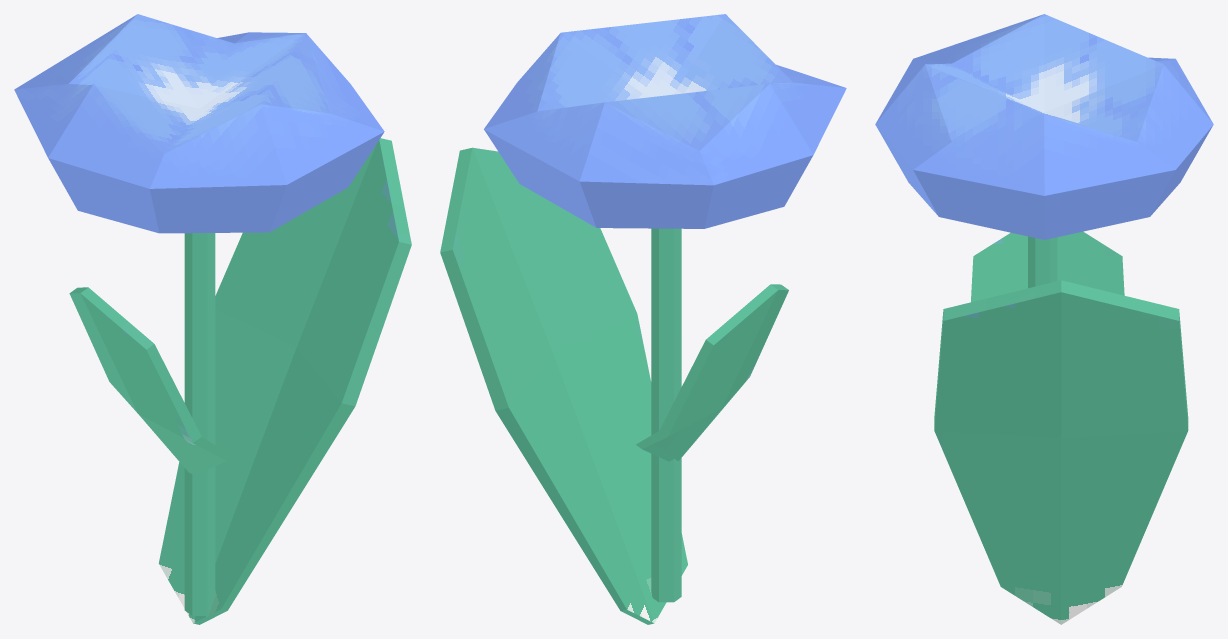
The model's file is nemphilia.glb.
3 views of the same model, side by side, from view 1: azimuth 30°, elevation 25°; view 2: azimuth 150°, elevation 25°; view 3: azimuth 270°, elevation 25° (orthographic). The views are drawn at different scales.
Visible parts, largest first — view 1: Cube.076; view 2: Cube.076; view 3: Cube.076.
Part boxes in pixels (bbox=[...]): Cube.076: bbox=[14, 14, 411, 624]; Cube.076: bbox=[440, 14, 846, 624]; Cube.076: bbox=[875, 14, 1213, 624].
Size of the model in its own units: 0.5133 by 0.7995 by 0.4409.
Materials: 1 (1 with a texture image).
